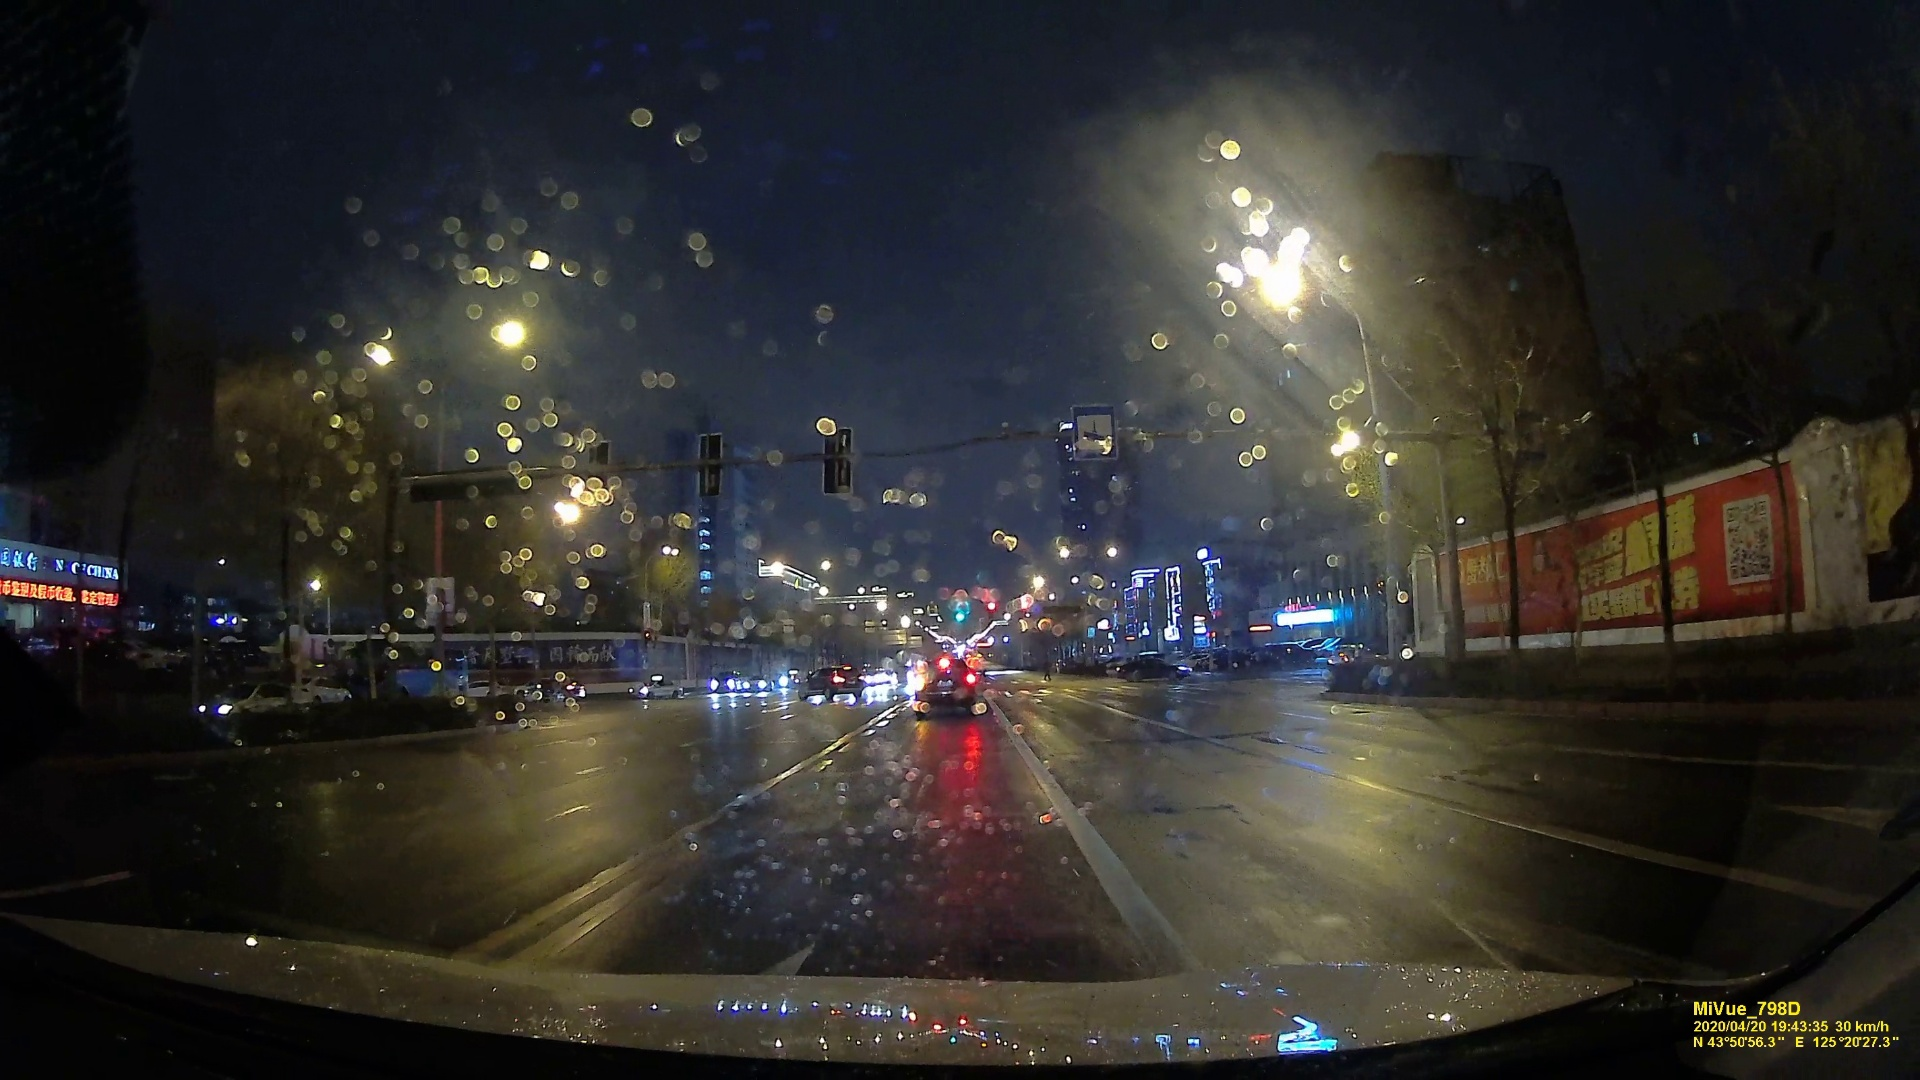person: (1043, 659, 1052, 682)
traffic_sign: (1070, 402, 1117, 457)
vehicle: (914, 654, 988, 719), (799, 665, 865, 700), (1116, 656, 1192, 683), (628, 675, 686, 700)
